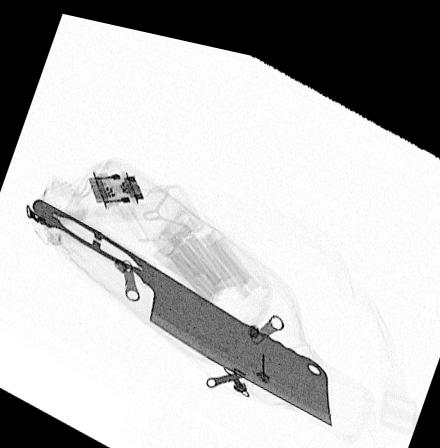Knife: (30, 194, 333, 412)
